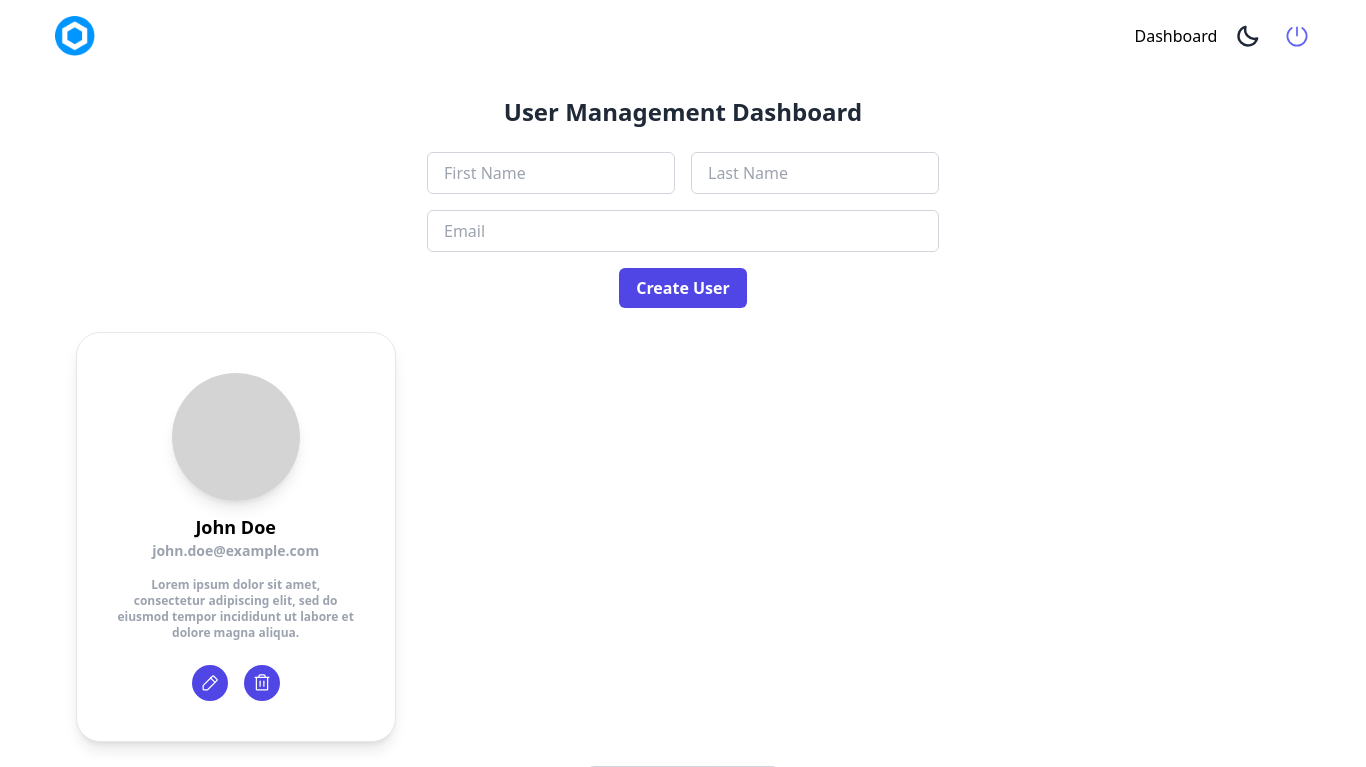
it: Dashboard Page › should create a new user and display it in the list
Type "Jane" into the field with placeholder "First Name". click: (551,173)
box: left=427, top=152, right=675, bottom=194
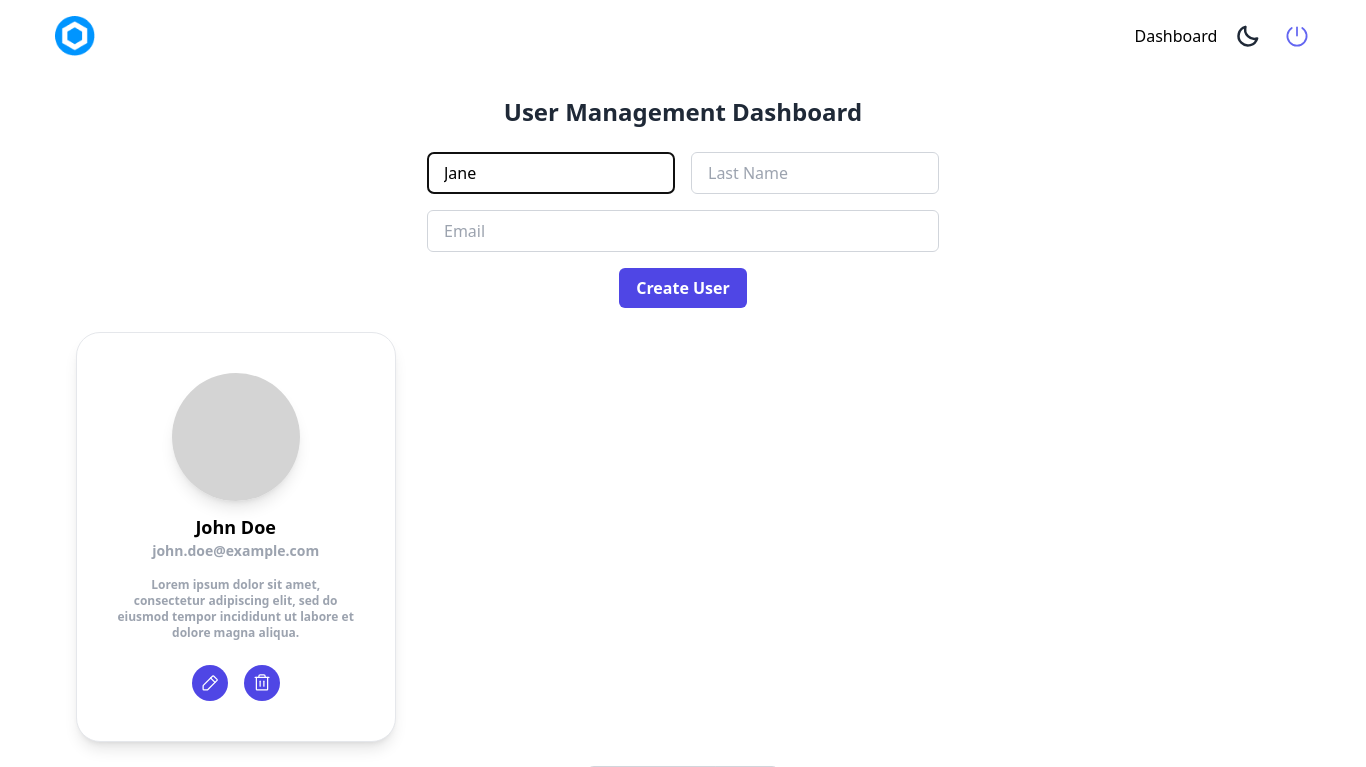
Type "Doe" into the field with placeholder "Last Name". click: (815,173)
box: left=691, top=152, right=939, bottom=194
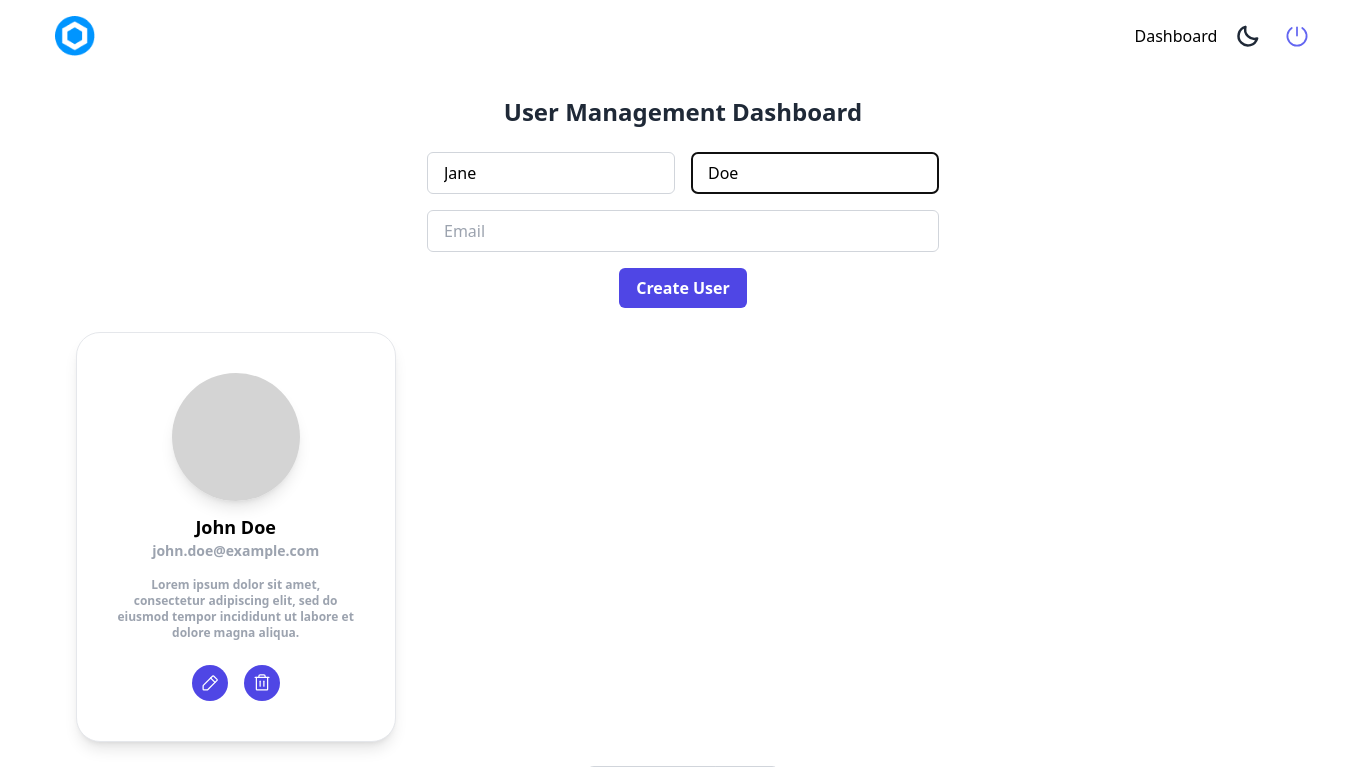
Type "jane.doe@example.com" into the field with placeholder "Email". click: (683,231)
box: left=427, top=210, right=939, bottom=252
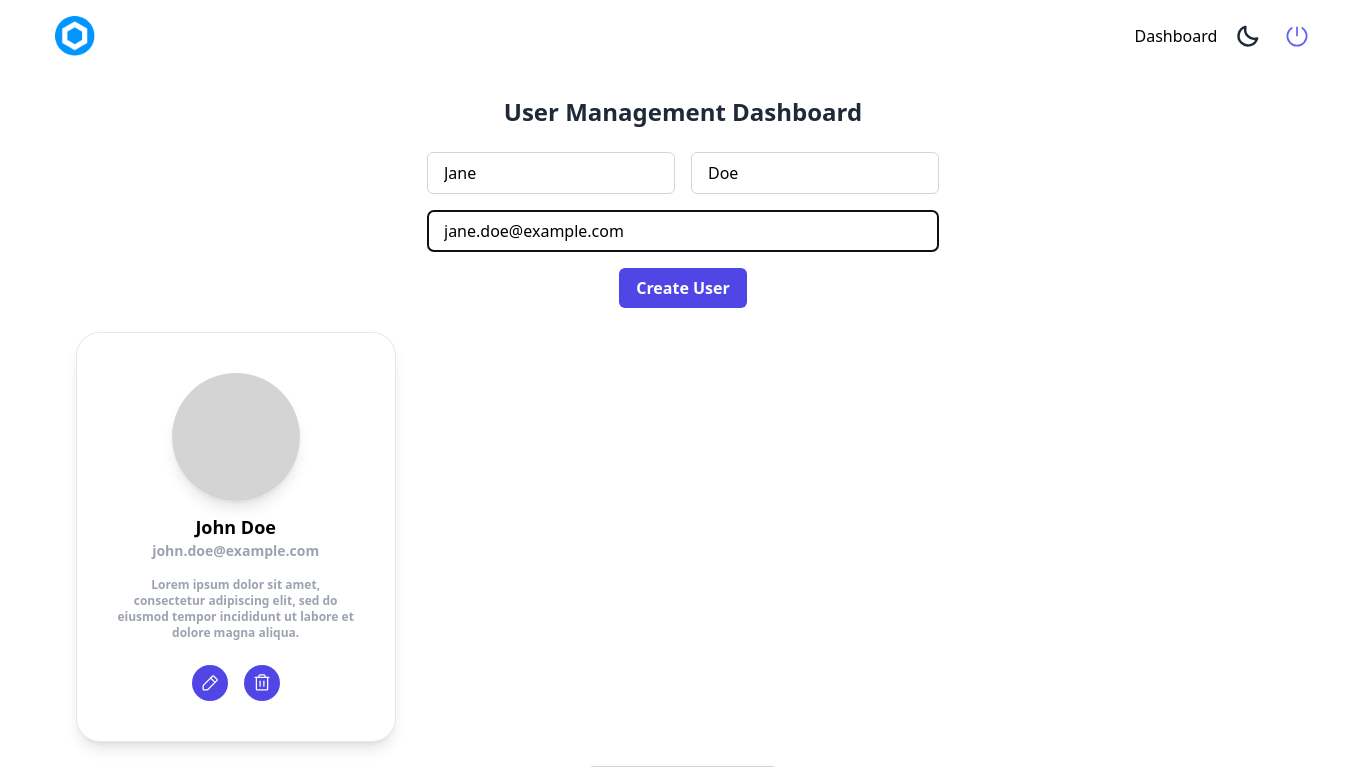
Click the submit button. click: (683,288)
box: left=619, top=268, right=747, bottom=308
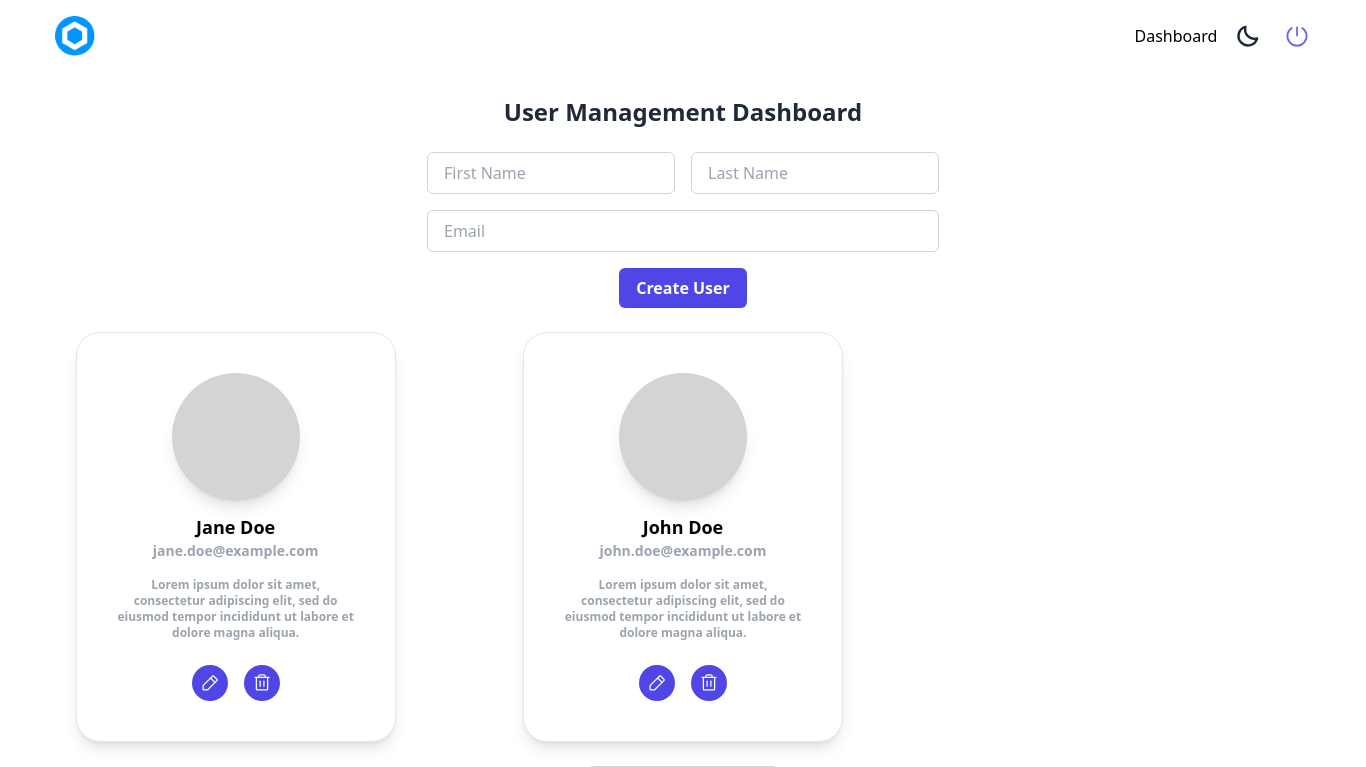
Result: the heading "Jane Doe" is shown at left=196, top=515, right=275, bottom=539
Result: the heading "jane.doe@example.com" is shown at left=153, top=541, right=318, bottom=560
